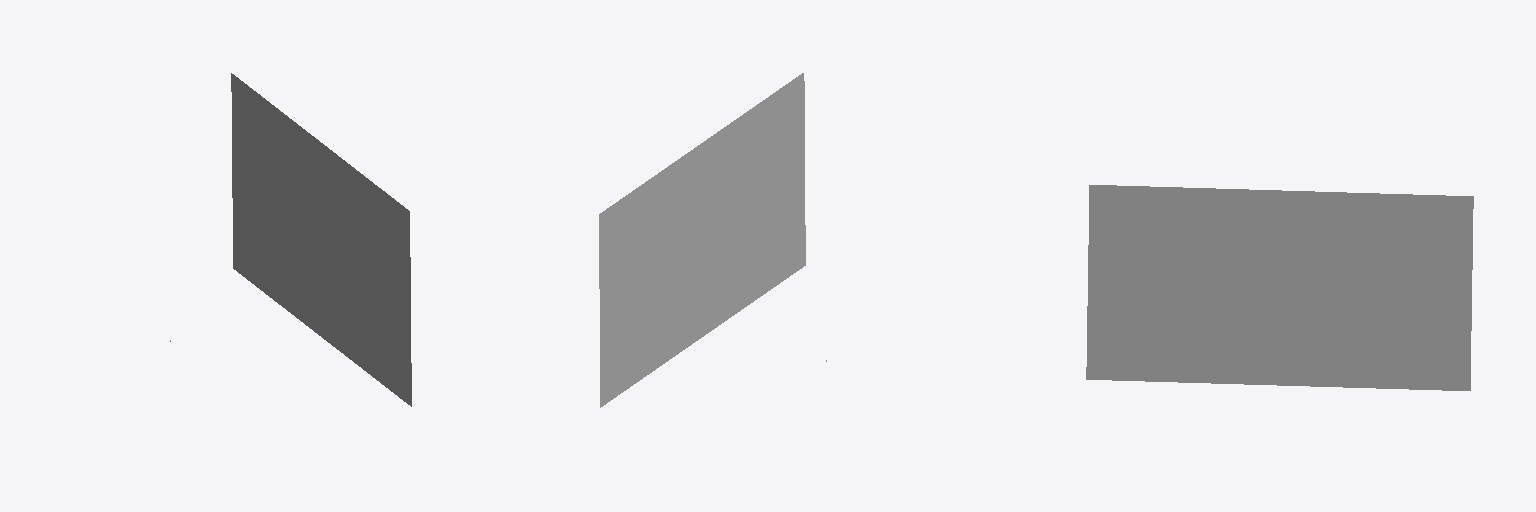
Rendered from background.obj.
3 renders of one model, left to right at view 1: azimuth 30°, elevation 25°; view 2: azimuth 150°, elevation 25°; view 3: azimuth 270°, elevation 25°, orthographic.
Parts seen in each view (by area): view 1: Plane_Plane.001; view 2: Plane_Plane.001; view 3: Plane_Plane.001.
Part boxes in pixels (bbox=[...]): Plane_Plane.001: bbox=[231, 73, 411, 406]; Plane_Plane.001: bbox=[599, 73, 805, 407]; Plane_Plane.001: bbox=[1086, 185, 1473, 390].
Bounding box in the file's own units: 9.98 × 13.18 × 23.13.